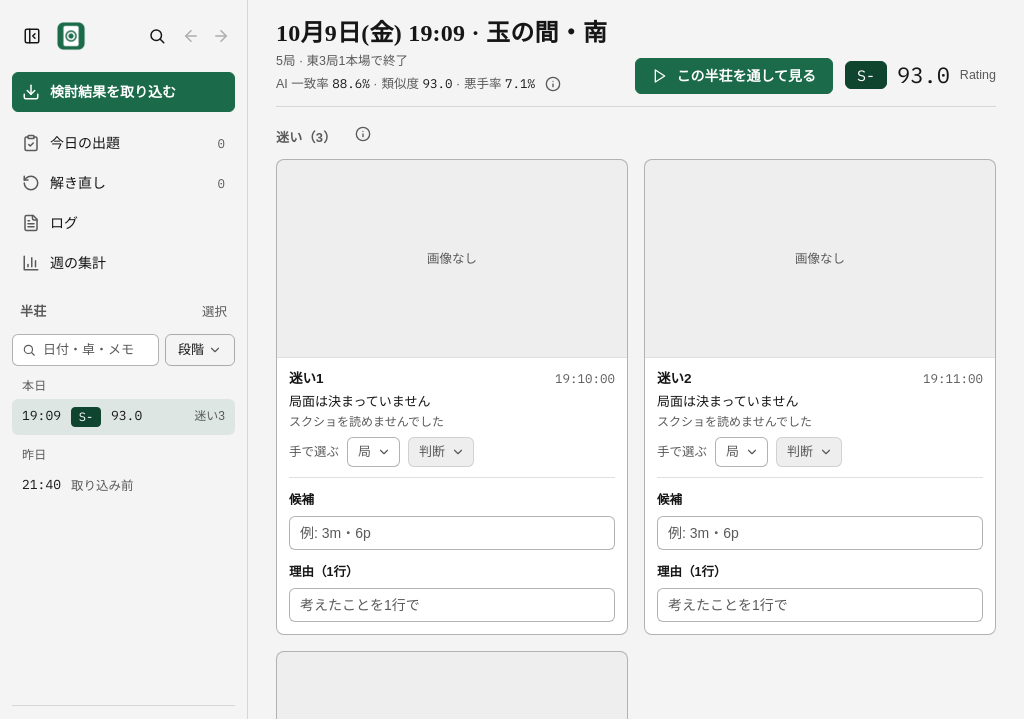
Test case: 検討画面のシェル（U-8） › 週の集計を押すと、週の集計が開く（選んでいる行き先に aria-current が付く。U-30）
Expected: the heading "10月9日(金) 19:09 · 玉の間・南" is shown, [276,18,607,49]
Click the button "週の集計": (124, 263) [12,244,235,282]
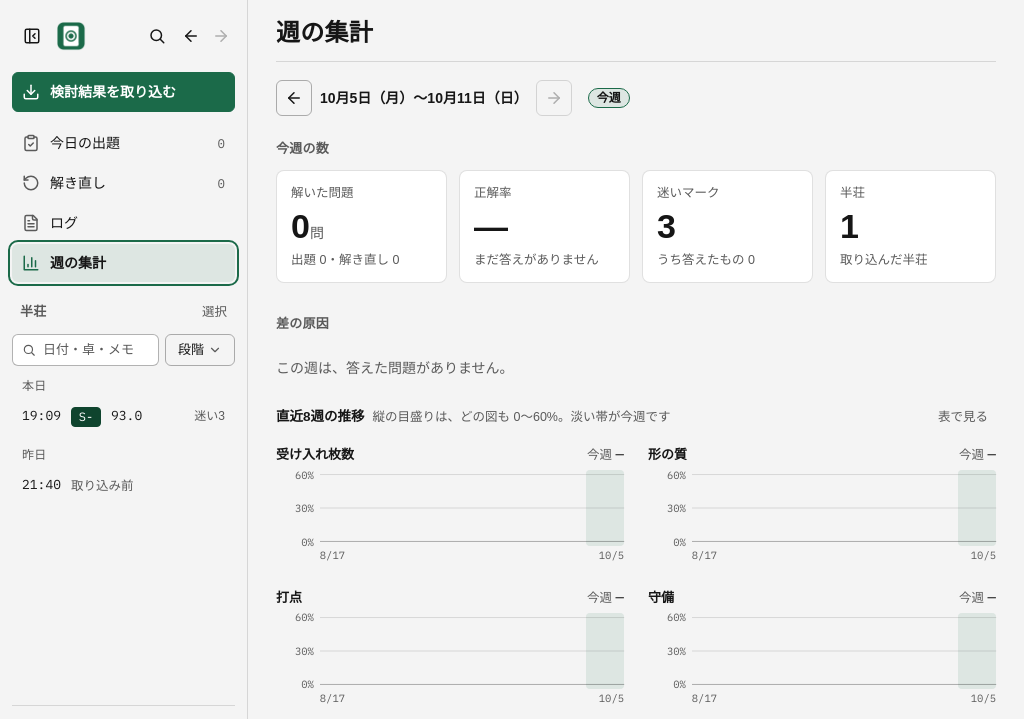
Now the heading "週の集計" is shown, box [276,18,373,49]
